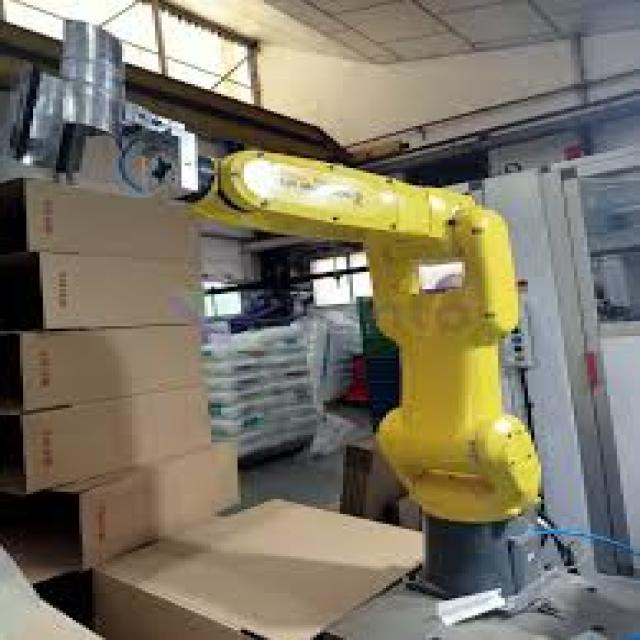Robotic-arm: (134, 138, 556, 604)
